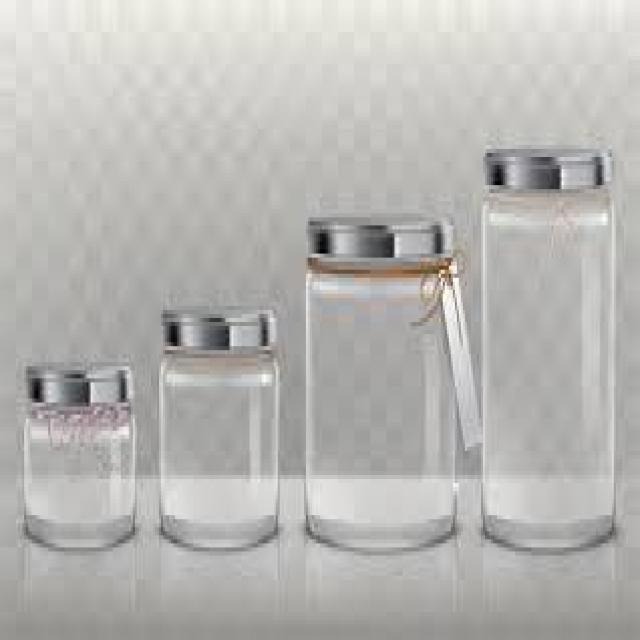non-organic waste: (478, 147, 617, 553), (301, 212, 462, 558), (150, 294, 285, 559), (16, 352, 145, 562)
